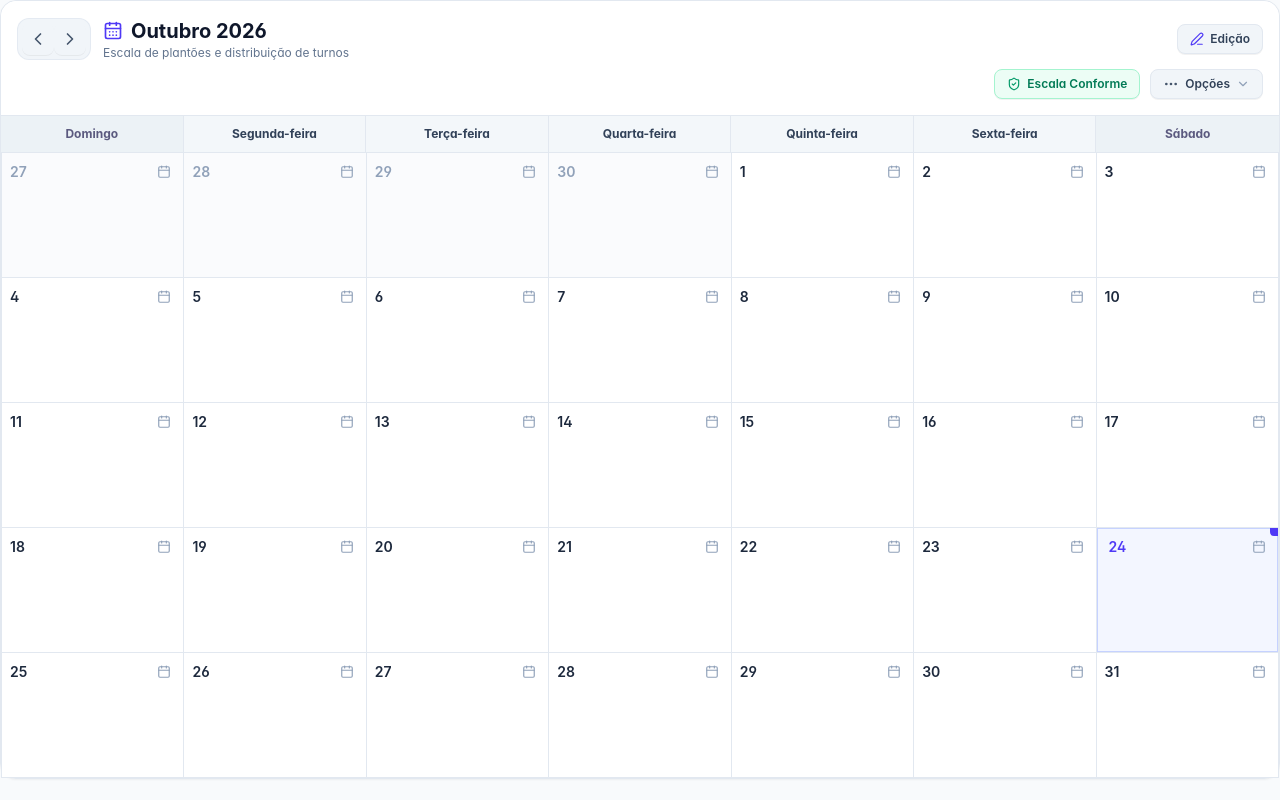
CalendarGrid › opens the actions menu with all its options
Note: Open dropdown
Click the button with test id "calendar-actions-dropdown-trigger": (1207, 84) [1150,69,1263,99]
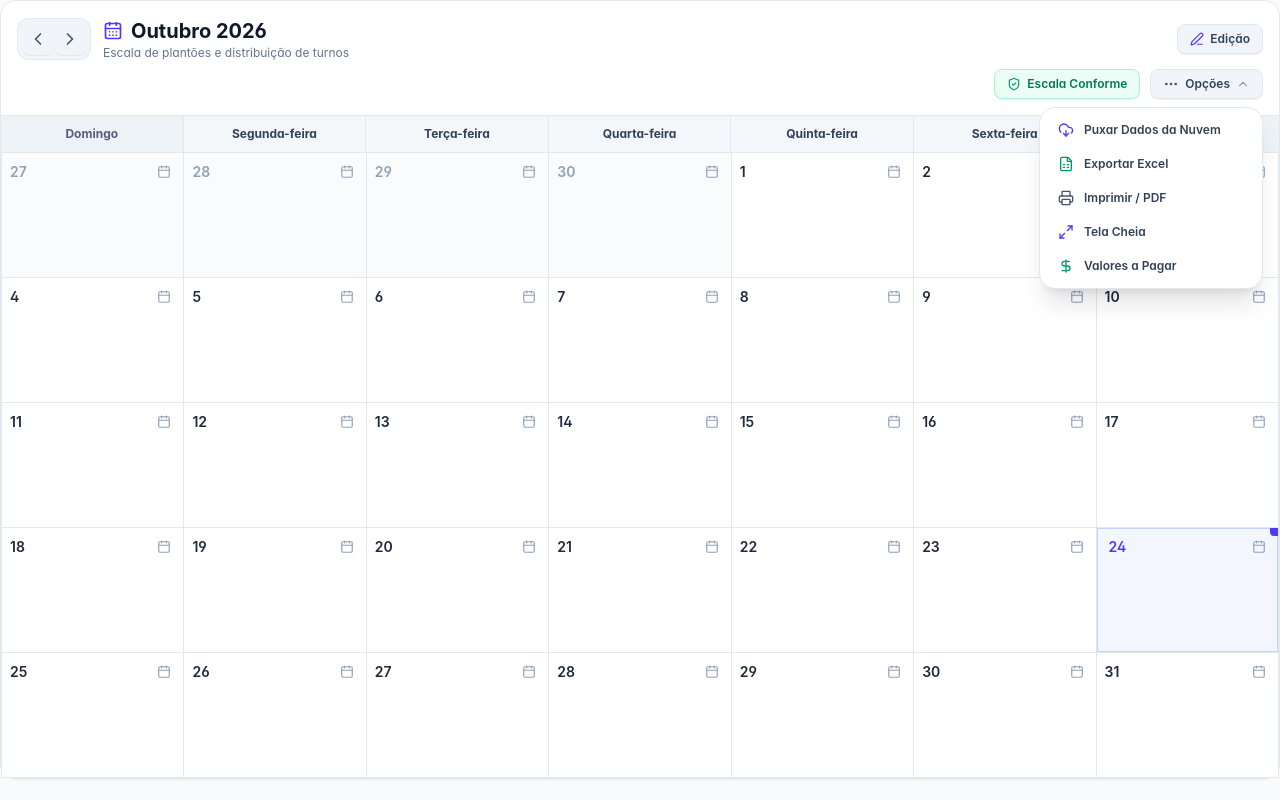
Result: the menu with test id "calendar-actions-dropdown-menu" is shown at [1039,107,1263,289]
Result: the menu item "Puxar Dados da Nuvem" is shown at [1046,114,1256,146]
Result: the menu item "Exportar Excel" is shown at [1046,148,1256,180]
